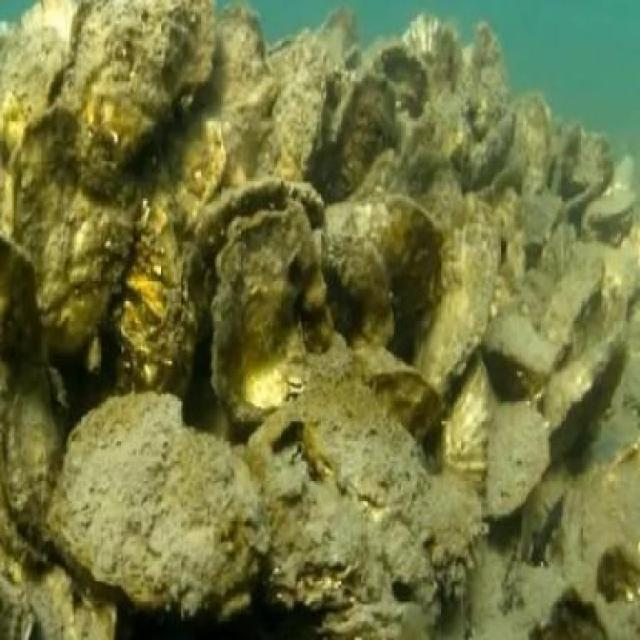Oyster-Indeterminate: (49, 392, 264, 615), (74, 0, 220, 176), (181, 180, 328, 354), (39, 153, 139, 372), (210, 206, 310, 421), (103, 198, 198, 401), (327, 192, 440, 362), (0, 0, 77, 238), (207, 2, 278, 192), (411, 235, 494, 382), (547, 325, 624, 464), (314, 82, 402, 200), (14, 119, 79, 262), (262, 39, 328, 178), (144, 125, 222, 235), (323, 241, 389, 351), (362, 356, 444, 433), (491, 403, 547, 515), (403, 12, 465, 92), (514, 82, 552, 188), (589, 186, 635, 233)
